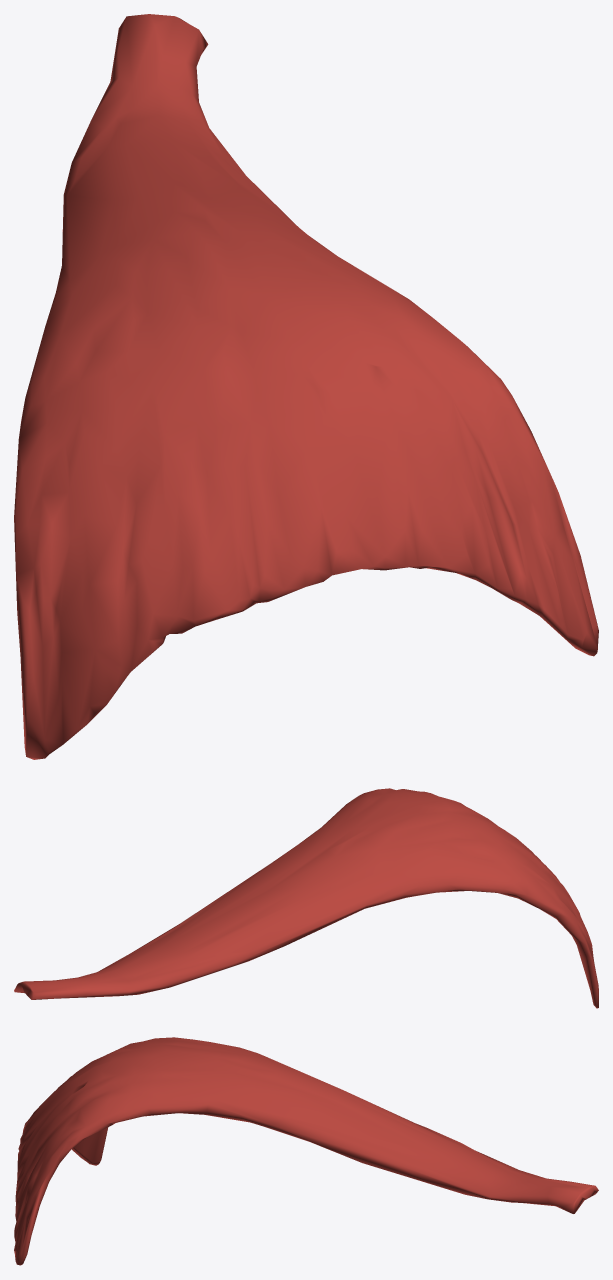
The model's file is musculos-levator-palpebrae-superioris-r.glb.
3 renders of one model, top to bottom at view 1: azimuth 30°, elevation 25°; view 2: azimuth 150°, elevation 25°; view 3: azimuth 270°, elevation 25°, orthographic. The views are drawn at different scales.
Visible parts, largest first — view 1: Levator palpebrae superioris.r; view 2: Levator palpebrae superioris.r; view 3: Levator palpebrae superioris.r.
Part boxes in pixels (box(x1,y1,x2,y2)): Levator palpebrae superioris.r: box(14, 14, 598, 759); Levator palpebrae superioris.r: box(14, 788, 598, 1008); Levator palpebrae superioris.r: box(14, 1037, 598, 1265).
Bounding box in the file's own units: 0.0301 × 0.0158 × 0.046.
